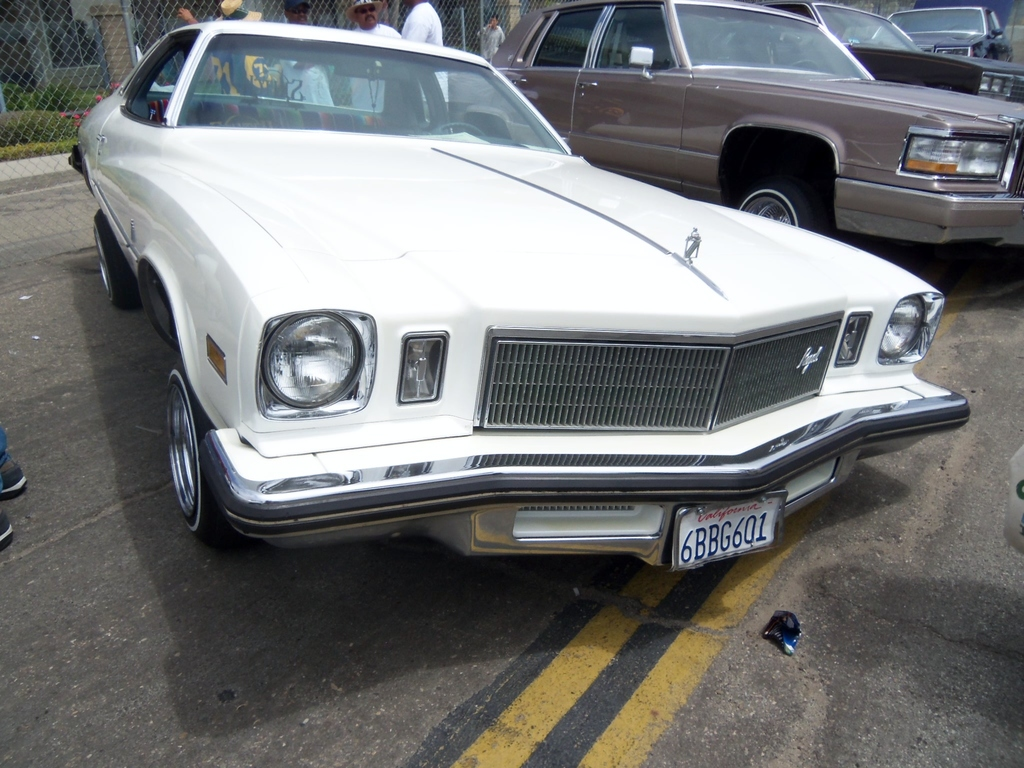Car: (67, 21, 967, 568), (453, 0, 1023, 240), (758, 0, 1023, 101), (869, 5, 1012, 63), (1004, 444, 1023, 557)
